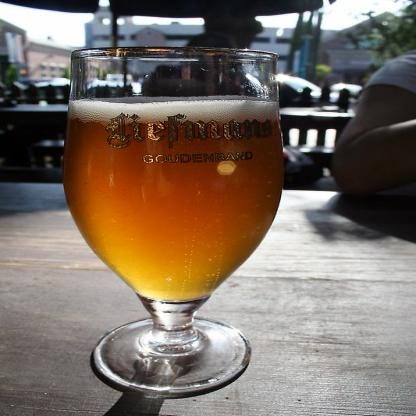drinking: (63, 46, 284, 400)
